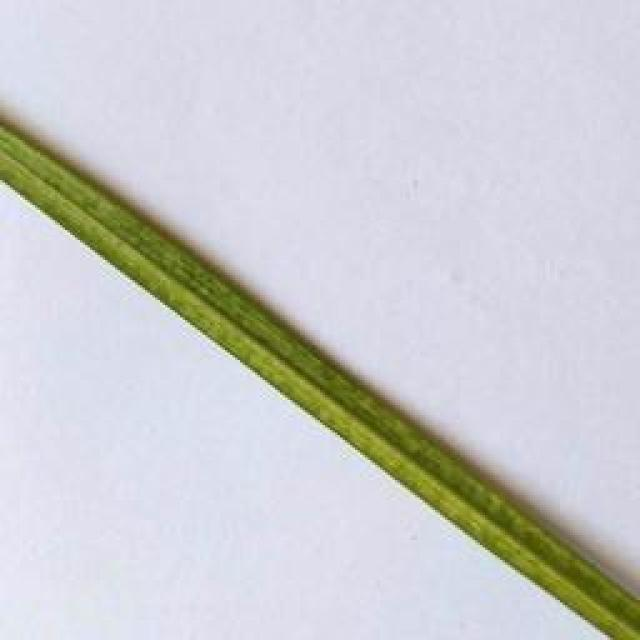Healthy-Plant: (0, 122, 640, 640)
